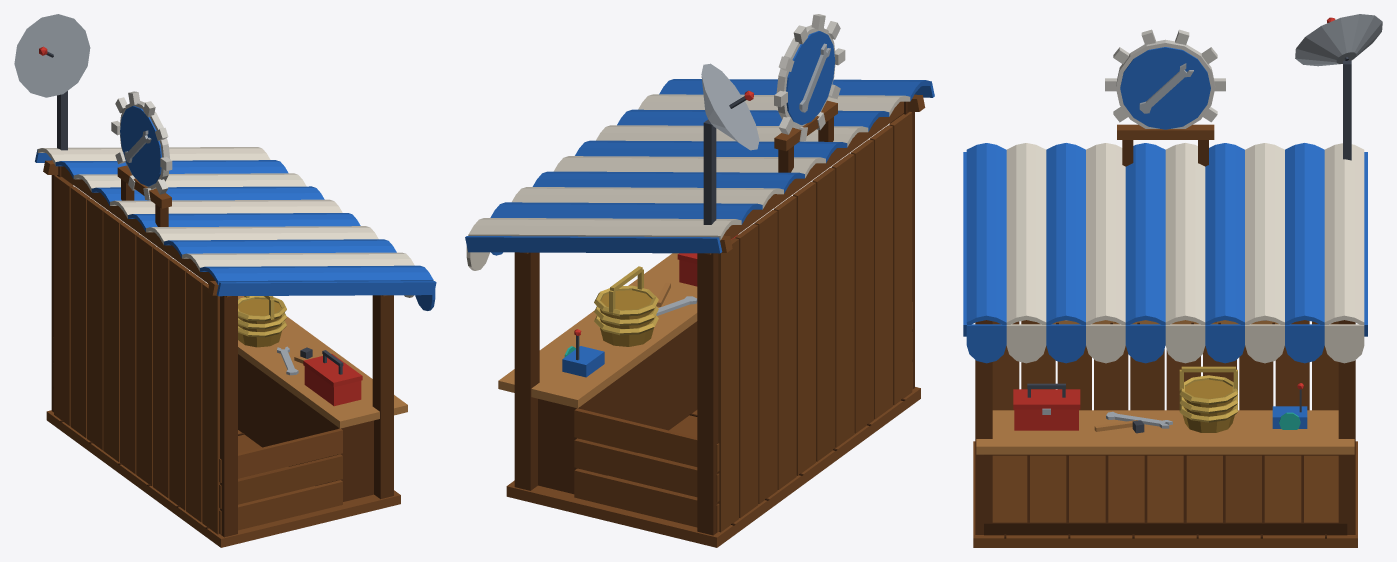
The model's file is stall_gears.glb.
The picture shows the model from 3 angles, left to right: view 1: azimuth 30°, elevation 25°; view 2: azimuth 150°, elevation 25°; view 3: azimuth 270°, elevation 25°; orthographic projection. The views are drawn at different scales.
Visible parts, largest first — view 1: stall_gears; view 2: stall_gears; view 3: stall_gears.
Part boxes in pixels (x1,y1,x2,y2): stall_gears: (14,14,436,547); stall_gears: (465,14,934,547); stall_gears: (963,14,1382,547).
Bounding box in the file's own units: 2.82 × 4.53 × 3.88.
